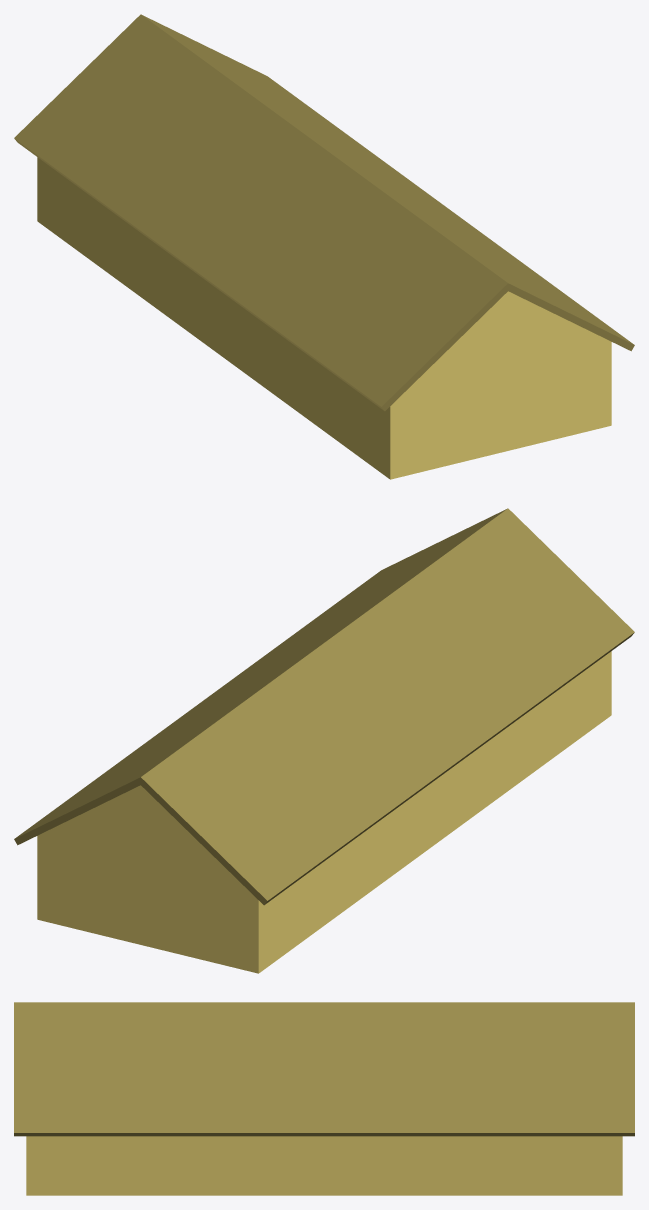
File: result.glb
3 views of the same model, one above another, from view 1: azimuth 30°, elevation 25°; view 2: azimuth 150°, elevation 25°; view 3: azimuth 270°, elevation 25° (orthographic). The views are drawn at different scales.
Parts seen in each view (by area): view 1: 0acf2460-b5cf-4a52-9440-131e5f2020ea__undefined (×2), 17f08b72-de7f-4f3d-89d2-2f37ed091bfe__undefined; view 2: 0acf2460-b5cf-4a52-9440-131e5f2020ea__undefined (×2), 17f08b72-de7f-4f3d-89d2-2f37ed091bfe__undefined; view 3: 0acf2460-b5cf-4a52-9440-131e5f2020ea__undefined, 17f08b72-de7f-4f3d-89d2-2f37ed091bfe__undefined.
Part boxes in pixels (x1,y1,x2,y2): 0acf2460-b5cf-4a52-9440-131e5f2020ea__undefined (×2): (14,14,634,411); 17f08b72-de7f-4f3d-89d2-2f37ed091bfe__undefined: (37,157,611,479); 0acf2460-b5cf-4a52-9440-131e5f2020ea__undefined (×2): (14,508,634,905); 17f08b72-de7f-4f3d-89d2-2f37ed091bfe__undefined: (37,651,611,973); 0acf2460-b5cf-4a52-9440-131e5f2020ea__undefined: (14,1002,634,1136); 17f08b72-de7f-4f3d-89d2-2f37ed091bfe__undefined: (26,1136,622,1195).
Bounding box in the file's own units: 1013 × 667 × 2541.
